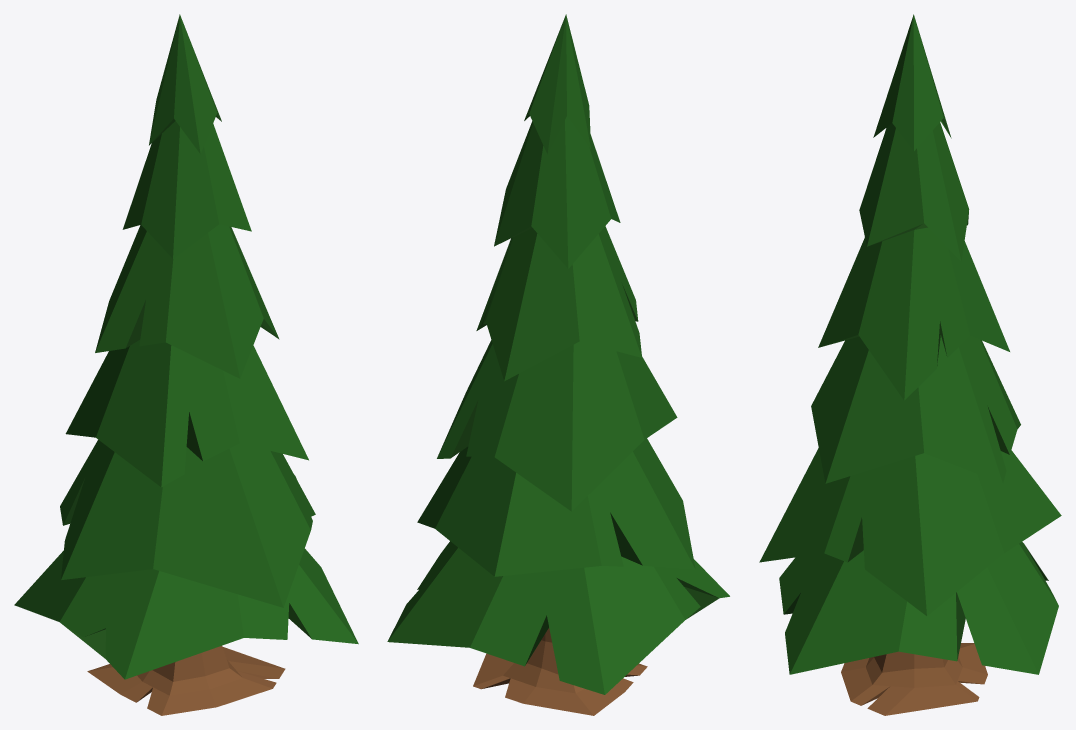
File: pine.fbx
The picture shows the model from 3 angles, left to right: view 1: azimuth 30°, elevation 25°; view 2: azimuth 150°, elevation 25°; view 3: azimuth 270°, elevation 25°; orthographic projection.
Visible parts, largest first — view 1: Cylinder; view 2: Cylinder; view 3: Cylinder.
Part boxes in pixels (x1,y1,x2,y2): Cylinder: (14, 14, 358, 715); Cylinder: (387, 14, 729, 715); Cylinder: (759, 14, 1061, 715).
Size of the model in its own units: 316 by 752 by 313.
